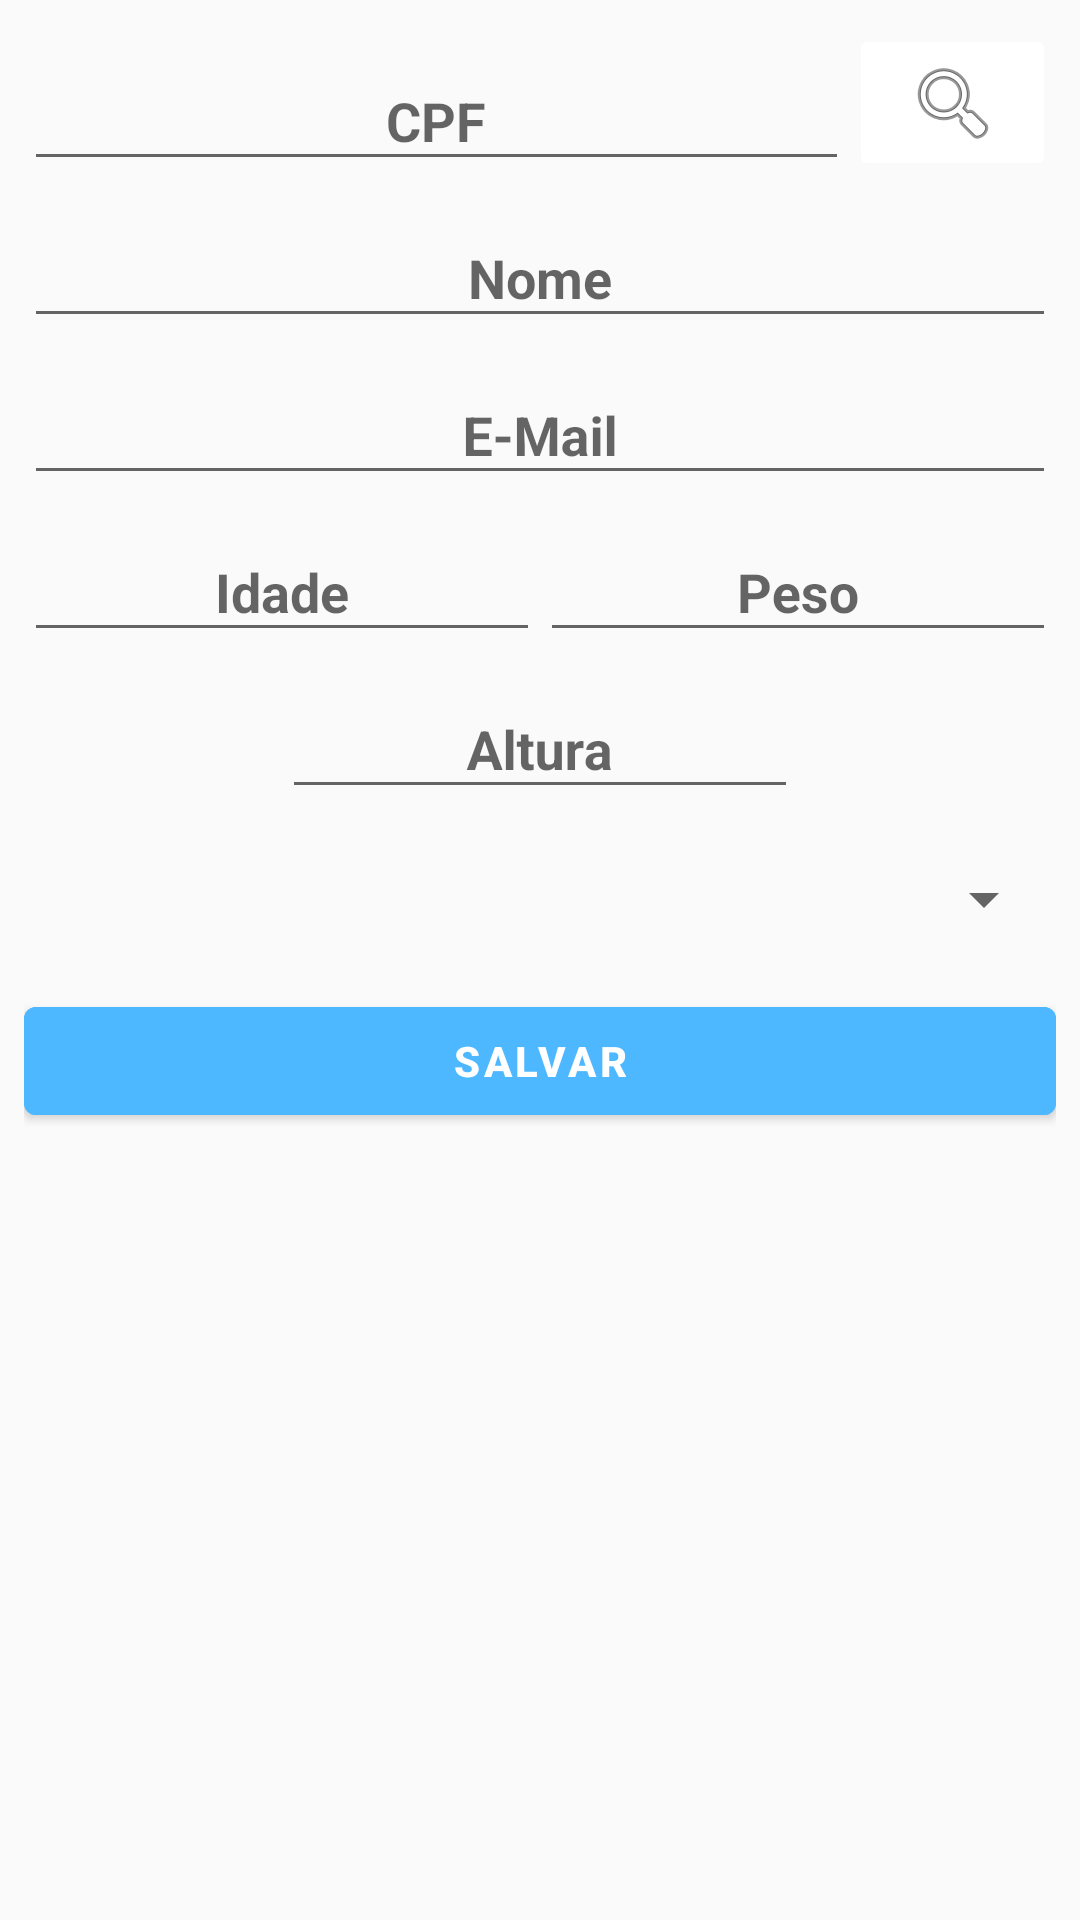

Named icons in this screenshot (1080×1920) and their bounding boxes, bbox=[x1, y1, x2, y2]:
search: bbox=[918, 68, 988, 139]
